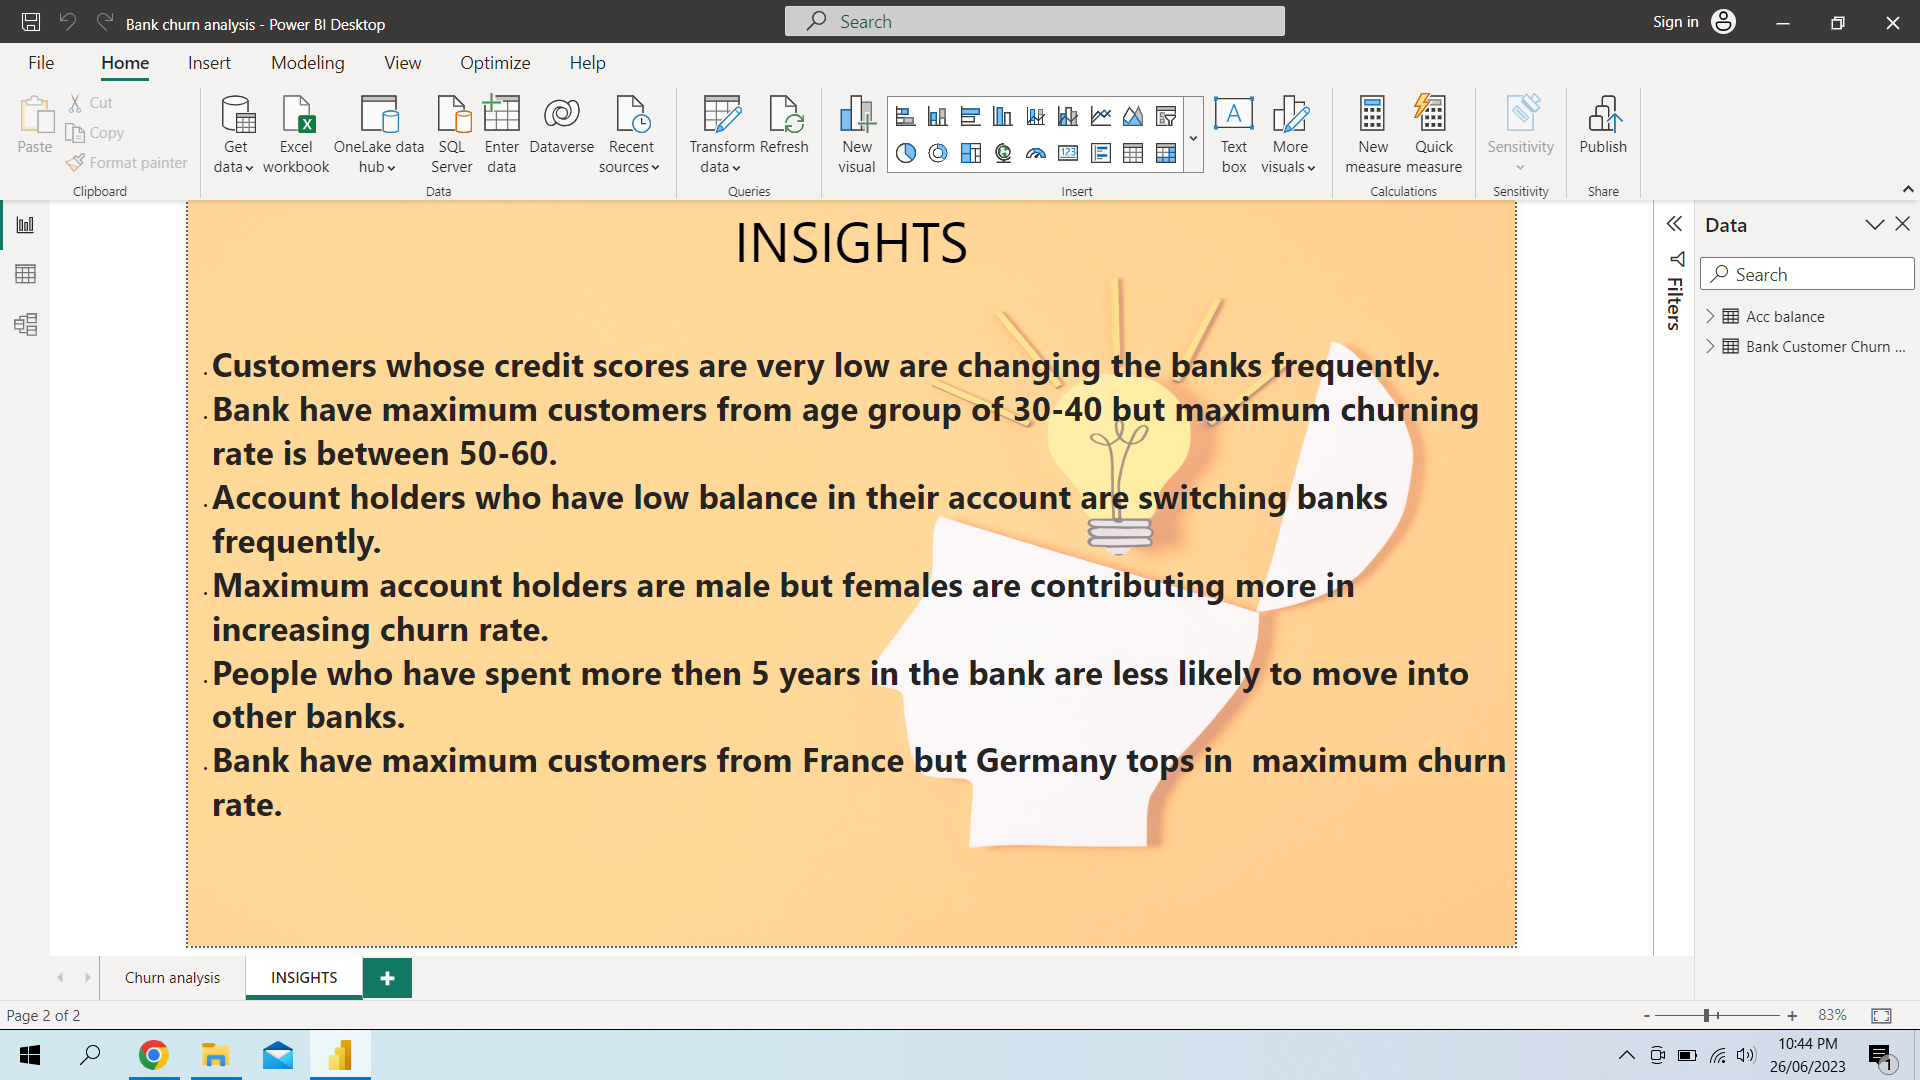

This screenshot's page, from the dashboard's own definition file:
{"tool":"powerbi","page":{"name":"INSIGHTS","canvas":[1280,720],"ordinal":1},"visuals":[{"type":"shape","box":[0,0,1280.5,76.2],"z":1},{"type":"textbox","box":[0,130.9,1280.5,487.9],"z":2}]}

Visuals, with their boxes on the page's 1280x720 design canvas (x1, y1, x2, y2). These are canvas units, not pixel positions in the 1920x1080 screenshot, which may show the page scaled, cropped or inside an application window:
shape: <box>0,0,1280,76</box>
textbox: <box>0,131,1280,619</box>
